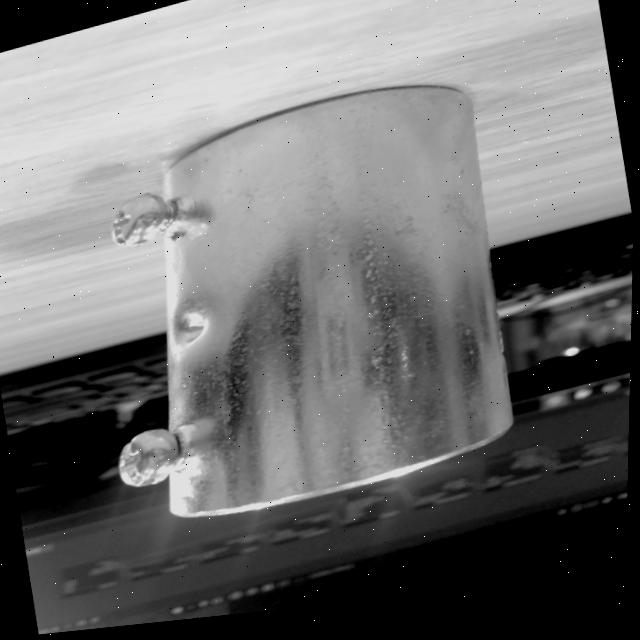Co_Nho: (73, 78, 519, 525)
